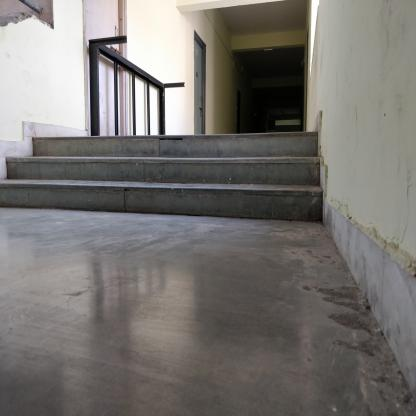stairs: (32, 131, 317, 218)
